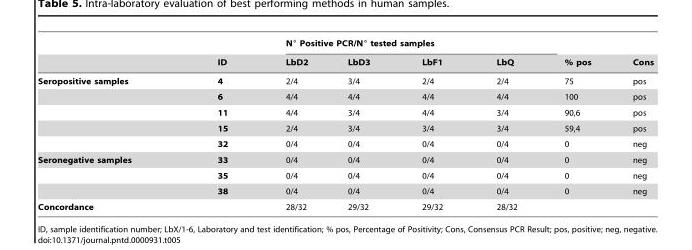table: (37, 37, 653, 211)
table column: (37, 37, 173, 211), (173, 37, 256, 211), (395, 37, 468, 211), (468, 37, 540, 211), (256, 37, 327, 211), (540, 37, 611, 211), (327, 37, 395, 211), (611, 37, 653, 211)
table column header: (37, 37, 653, 71)
table row: (37, 53, 653, 71), (37, 71, 653, 88), (37, 37, 653, 53), (37, 88, 653, 104), (37, 104, 653, 120), (37, 120, 653, 136), (37, 151, 653, 167), (37, 167, 653, 183), (37, 136, 653, 151), (37, 183, 653, 198), (37, 198, 653, 211)
table spanning cell: (37, 71, 173, 151), (37, 151, 173, 198), (256, 37, 540, 53), (173, 37, 256, 71), (540, 37, 611, 71), (611, 37, 653, 71)
